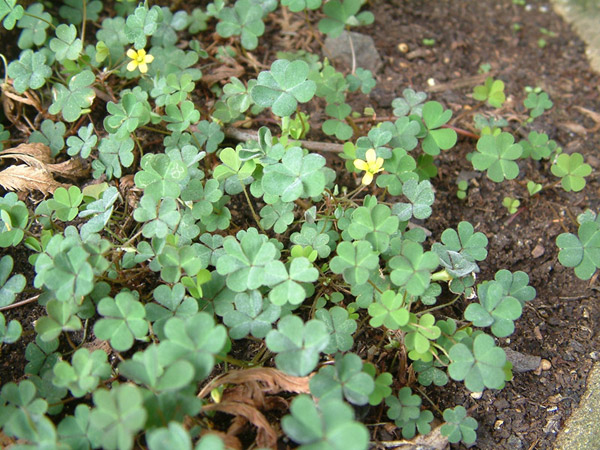oxalis: (21, 50, 595, 444)
